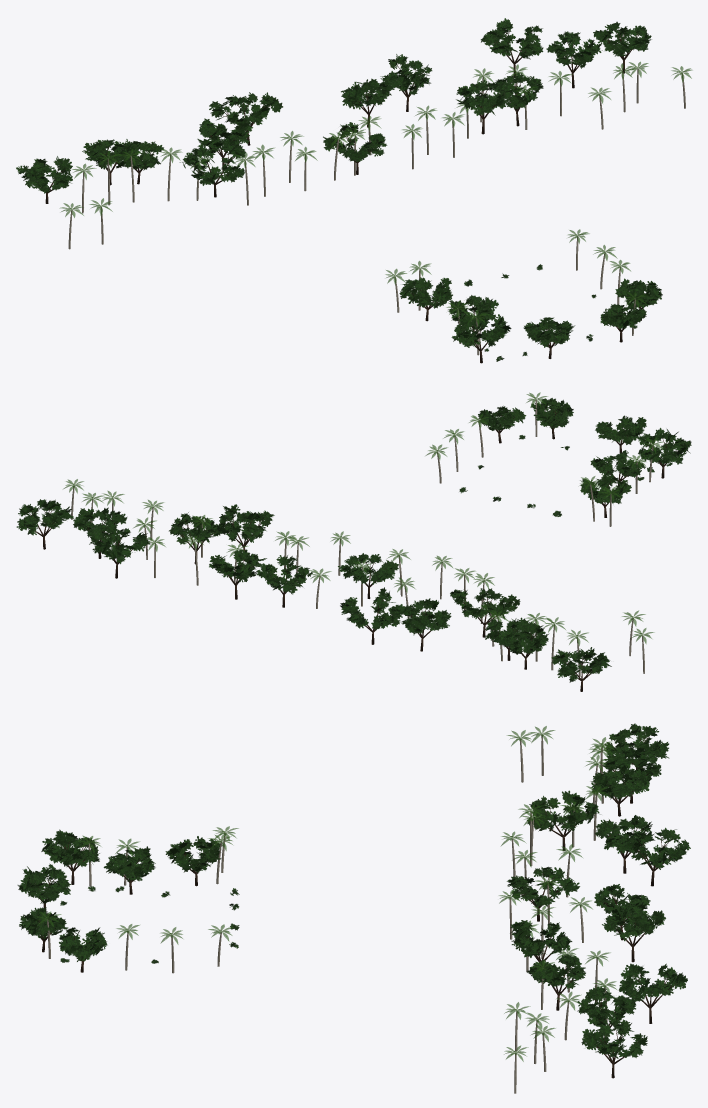
Rendered from vegetation.glb.
3 views of the same model, one above another, from view 1: azimuth 30°, elevation 25°; view 2: azimuth 150°, elevation 25°; view 3: azimuth 270°, elevation 25° (orthographic). The views are drawn at different scales.
Visible parts, largest first — view 1: Veg_Tropical_Tree_Foliage, Veg_Royal_Palm_Fronds, Veg_Royal_Palm_Trunks, Veg_Tropical_Tree_Trunks; view 2: Veg_Tropical_Tree_Foliage, Veg_Royal_Palm_Fronds, Veg_Royal_Palm_Trunks, Veg_Tropical_Tree_Trunks; view 3: Veg_Tropical_Tree_Foliage, Veg_Royal_Palm_Fronds, Veg_Royal_Palm_Trunks, Veg_Tropical_Tree_Trunks.
Part boxes in pixels (x1,y1,x2,y2): Veg_Tropical_Tree_Foliage: (16, 18, 662, 361); Veg_Royal_Palm_Fronds: (60, 61, 692, 325); Veg_Royal_Palm_Trunks: (68, 68, 685, 355); Veg_Tropical_Tree_Trunks: (25, 30, 642, 363); Veg_Tropical_Tree_Foliage: (16, 398, 691, 682); Veg_Royal_Palm_Fronds: (63, 392, 664, 646); Veg_Royal_Palm_Trunks: (71, 400, 653, 676); Veg_Tropical_Tree_Trunks: (24, 408, 677, 691); Veg_Tropical_Tree_Foliage: (17, 723, 690, 1058); Veg_Royal_Palm_Fronds: (35, 726, 616, 1061); Veg_Royal_Palm_Trunks: (47, 735, 607, 1093); Veg_Tropical_Tree_Trunks: (37, 736, 676, 1078).
Bounding box in the file's own units: 212 × 23.36 × 184.
4 materials, 4 textured.
